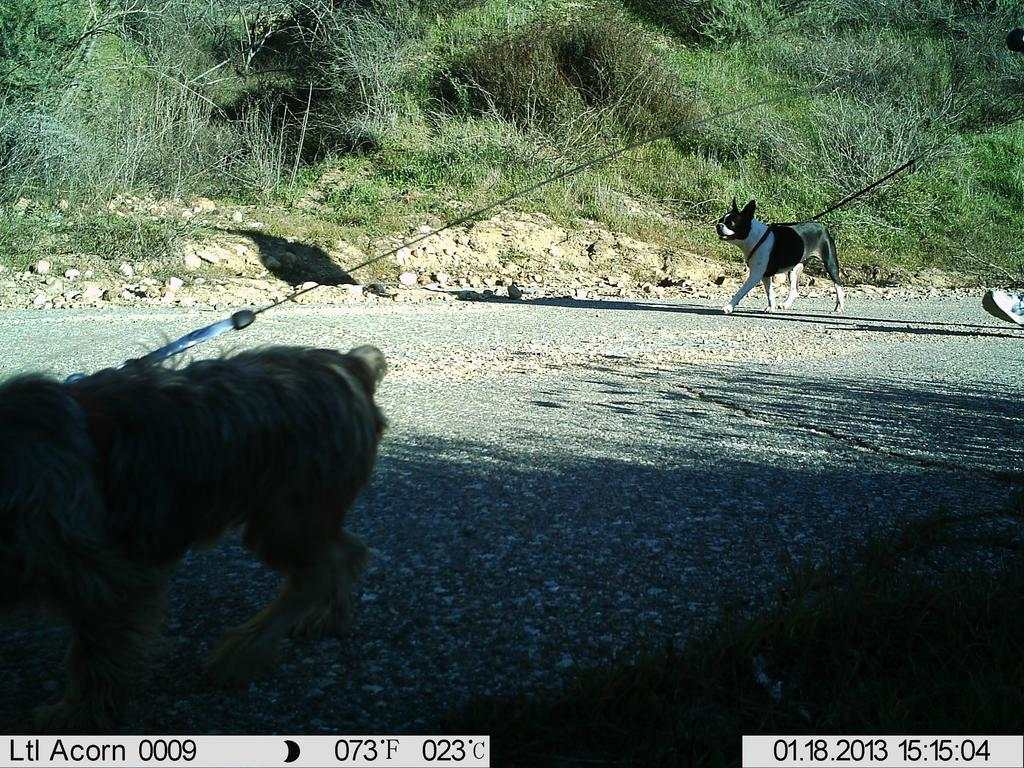dog: (1, 332, 404, 734), (712, 186, 862, 329)
